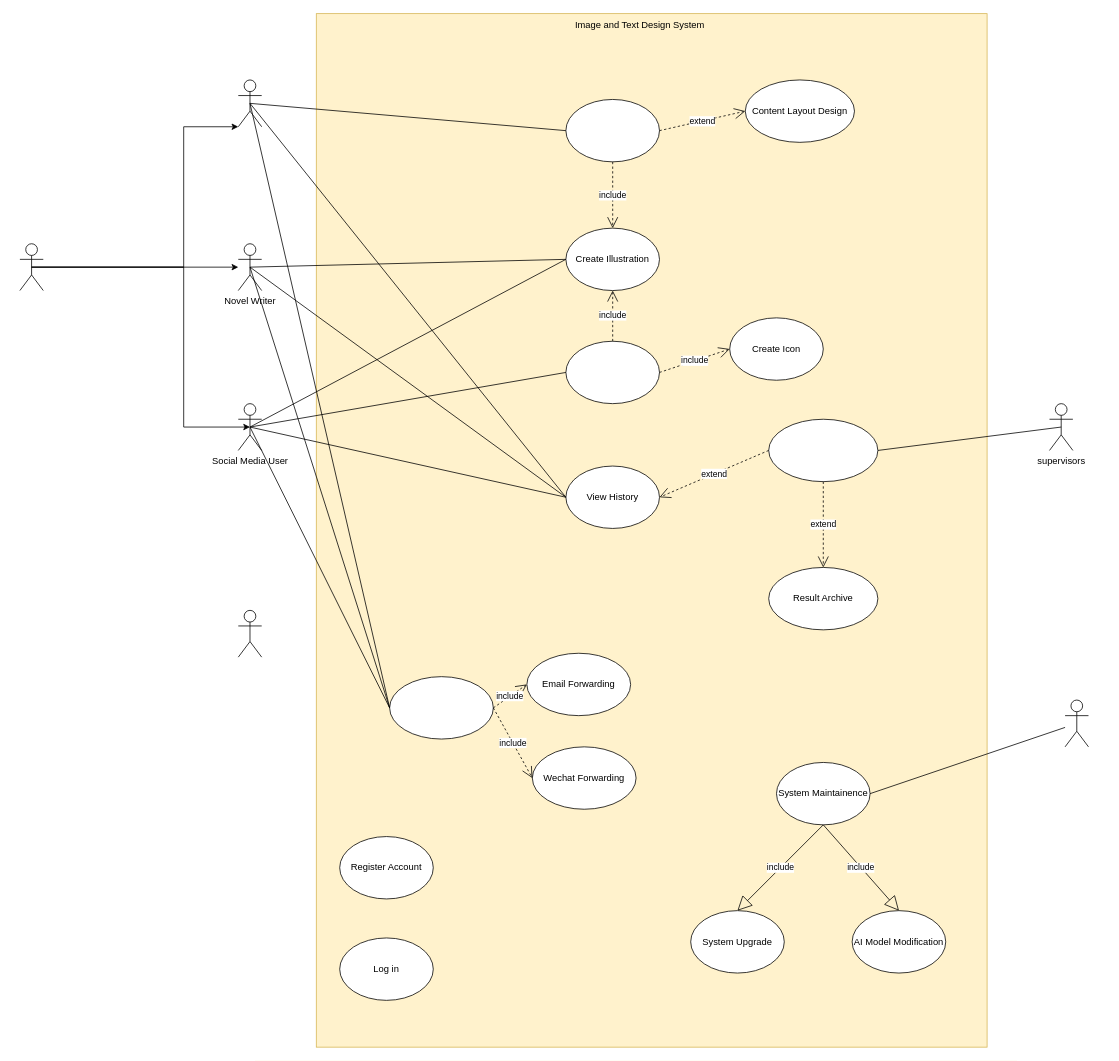
Some shapes in this 1119 by 1061 pixel diagram are drawn without their labels. The shapes that lost their labels are listed below. From the top down, each one's centre as x and y in pixels, then its label:
At point 250,103: "Poster Designer".
At point 612,130: "Create Poster".
At point 31,267: "Creators".
At point 612,372: "Create Social Media Message".
At point 823,450: "Content Audit And Manage".
At point 250,633: "editors".
At point 441,707: "Forwarding".
At point 1076,723: "administrators".
